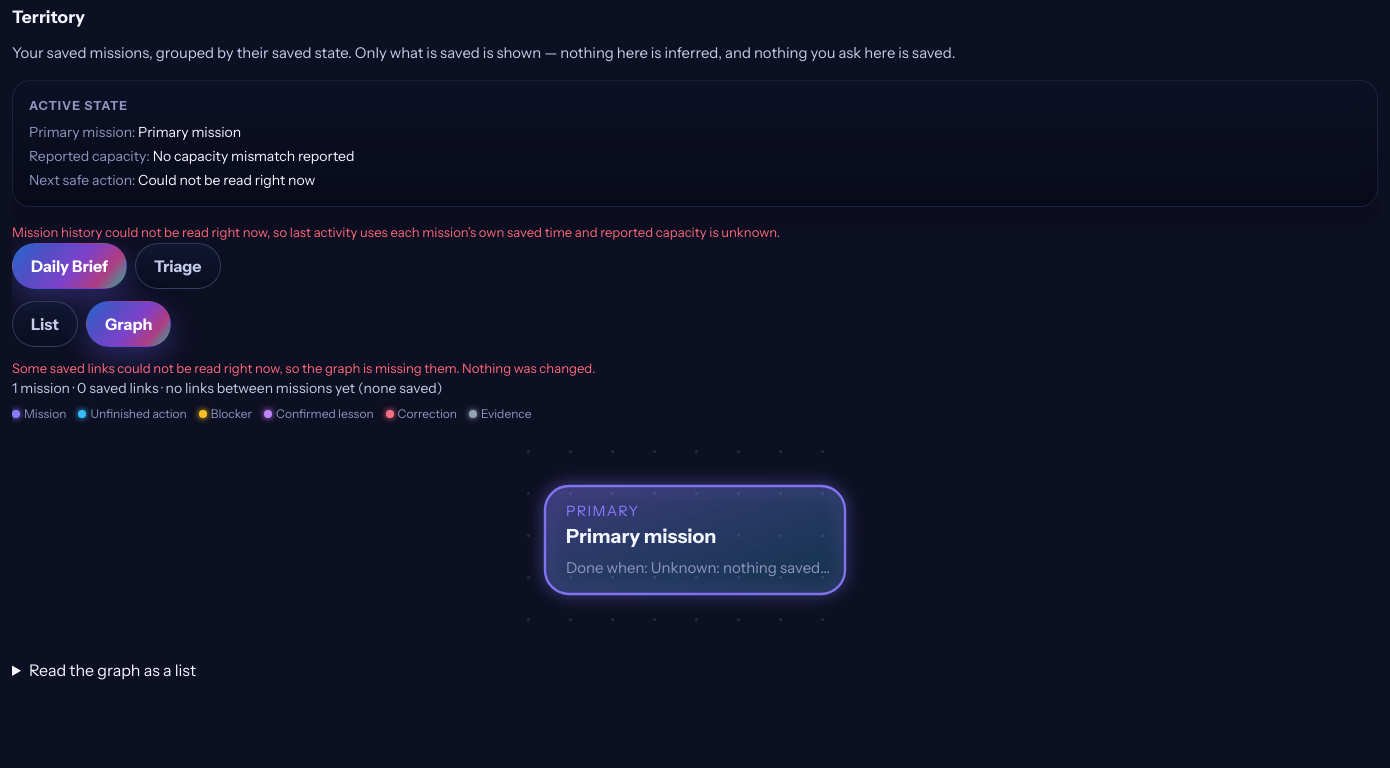
Test case: TerritoryTab › says history and actions could not be read instead of showing them as empty
The image size is (1390, 768).
Expected: the text "Mission history could not be read right now, so last activity uses each mission’s own saved time and reported capacity i" is shown, [12,224,780,240]
What coordinates should you click on to do the following:
click the button "List"
I would click on:
 (45, 324)
Its box is [12,301,78,347].
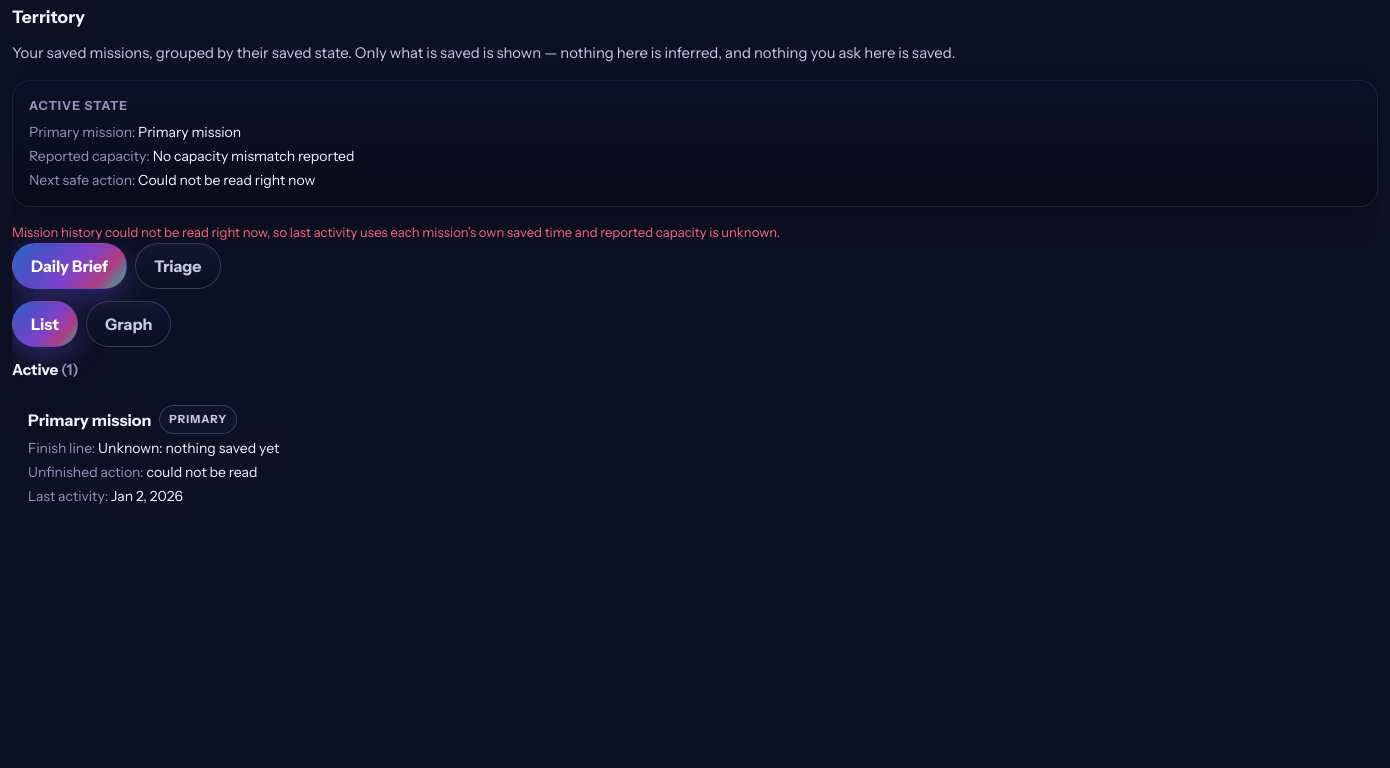
Expected: the text "could not be read" is shown, [146,463,258,481]
